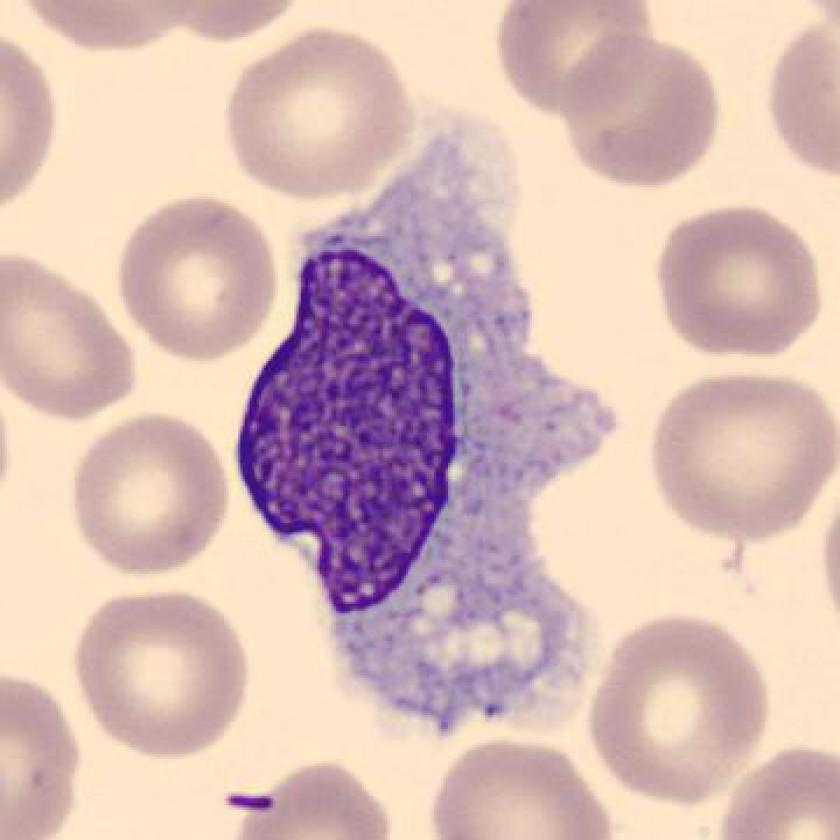monocyte: (227, 107, 638, 751)
